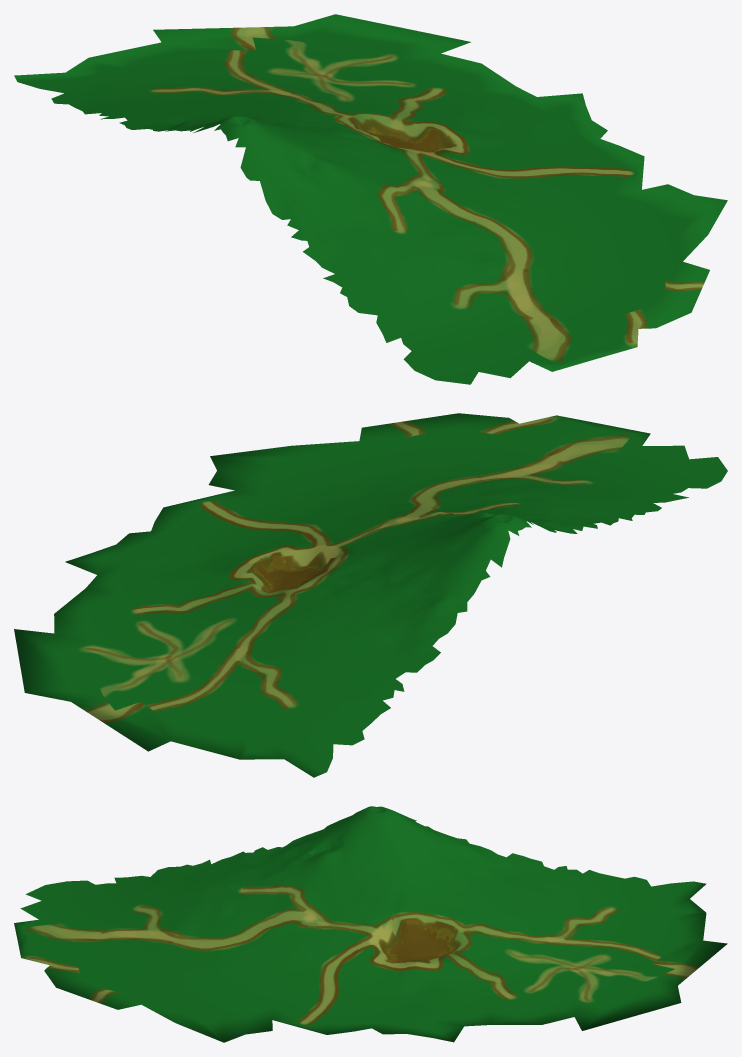
File: Map.fbx
The picture shows the model from 3 angles, top to bottom: view 1: azimuth 30°, elevation 25°; view 2: azimuth 150°, elevation 25°; view 3: azimuth 270°, elevation 25°; orthographic projection. The views are drawn at different scales.
Parts seen in each view (by area): view 1: Mt.Fuji_low_平面.002; view 2: Mt.Fuji_low_平面.002; view 3: Mt.Fuji_low_平面.002.
Boxes of the visible parts, left/top/right/bottom form: Mt.Fuji_low_平面.002: left=14, top=14, right=727, bottom=384; Mt.Fuji_low_平面.002: left=14, top=413, right=727, bottom=777; Mt.Fuji_low_平面.002: left=14, top=806, right=727, bottom=1042.
Bounding box in the file's own units: 1043 × 251 × 1967.
Materials: 1 (1 with a texture image).
